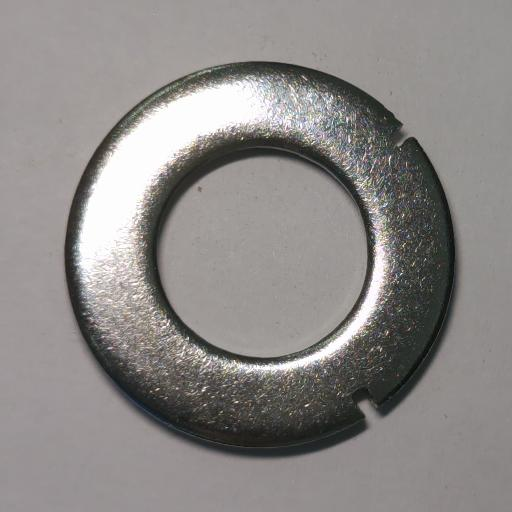burr: (352, 387, 381, 416), (389, 124, 414, 148)
